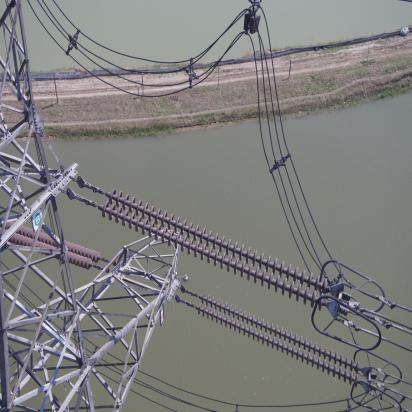insulator: (90, 184, 330, 313), (190, 292, 364, 390), (8, 220, 106, 270)
